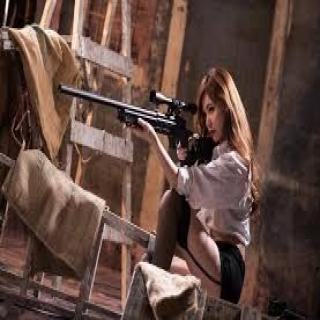gun: (50, 68, 217, 168)
